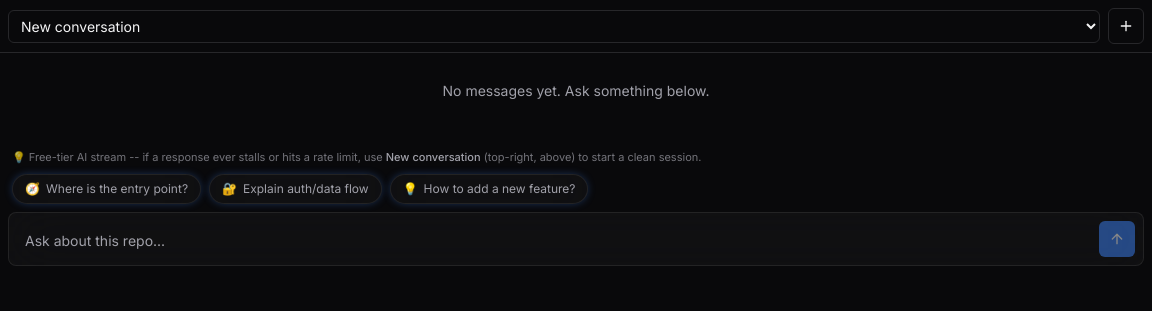
Test case: ChatPanel error retry › refetches conversation titles after a turn ends in an error
This screenshot has width=1152, height=311.
Step 1. Type "Find the answer" into the text box with placeholder "Ask about this repo..." → (554, 240), box [17, 224, 1091, 256]
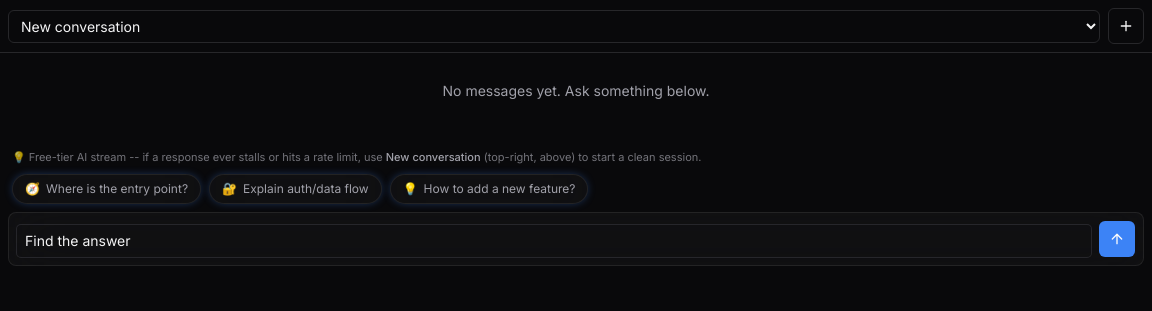
Step 2. Click the button named "Send message" → (1117, 238), box [1099, 220, 1135, 256]
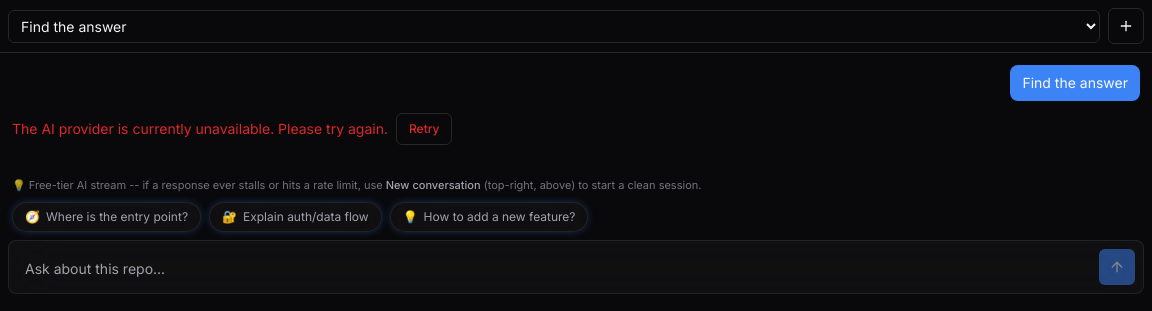
expect the text "The AI provider is currently unavailable. Please try again." is shown: met, box [12, 119, 388, 139]
